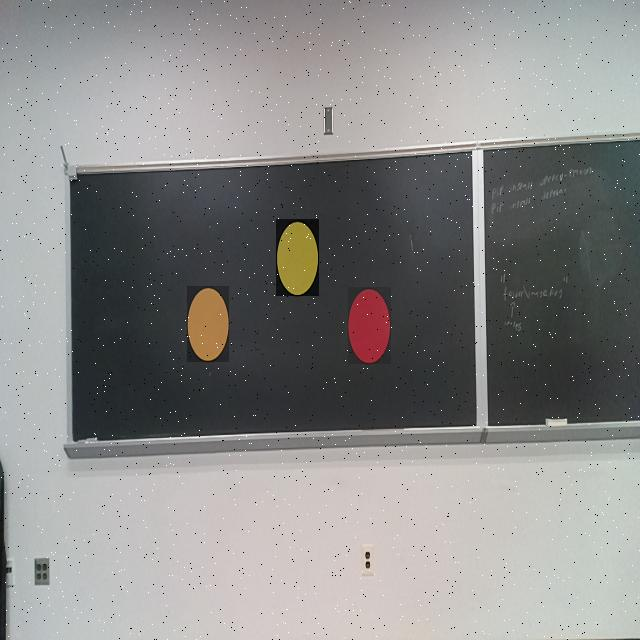Orange: (187, 286, 229, 362)
Red: (348, 287, 391, 364)
Yellow: (276, 219, 319, 296)
